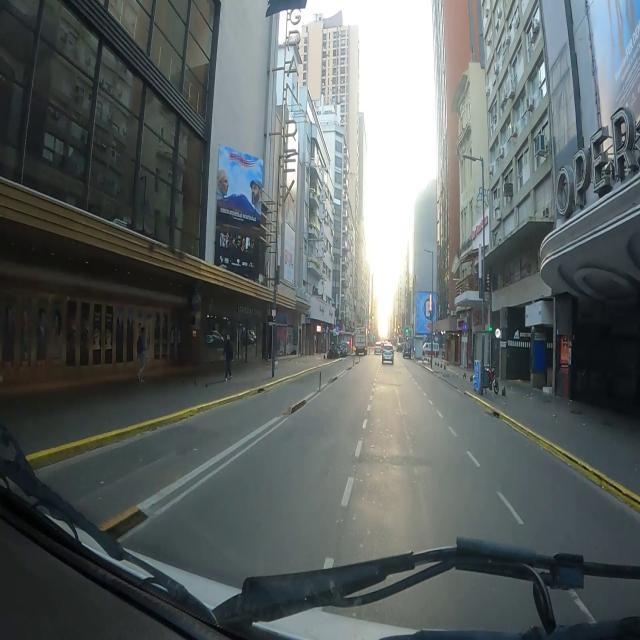car: (382, 344, 394, 364), (403, 341, 411, 359), (374, 341, 382, 354)
